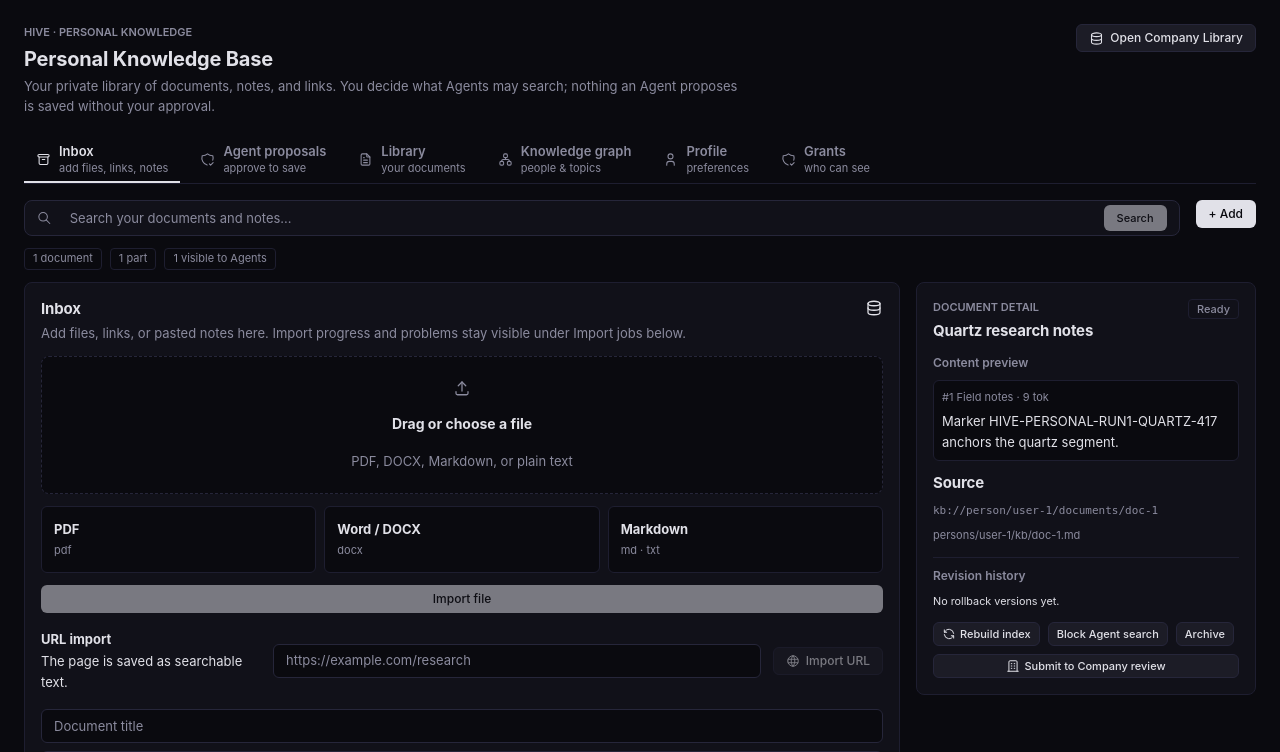
Scenario: PersonalKnowledge document detail robustness (mounted) › renders library metadata with plain-language sensitivity instead of the raw enum
Click the tab "Library your documents" at (412, 160), box x1=346 y1=137 x2=478 y2=183
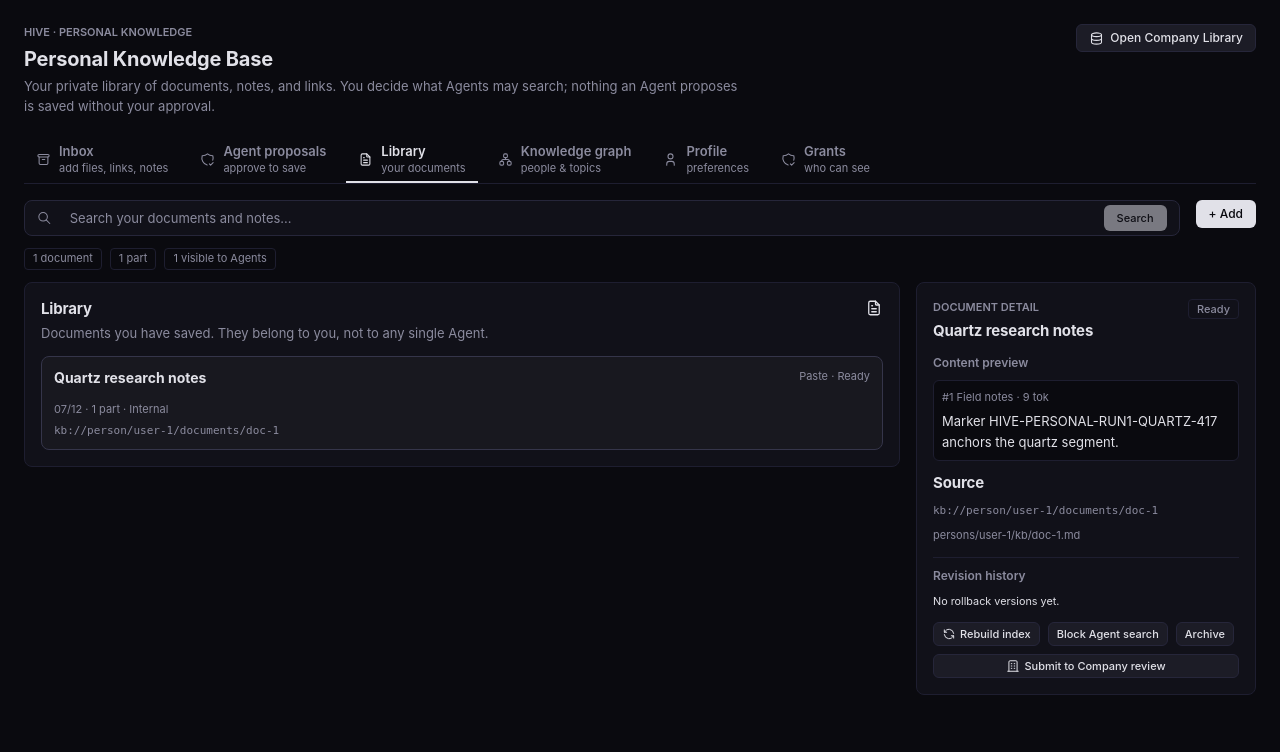
Expected: the text "· internal" is not shown
Result: the text "07/12 · 1 part · Internal" is shown at x1=54 y1=402 x2=168 y2=416
